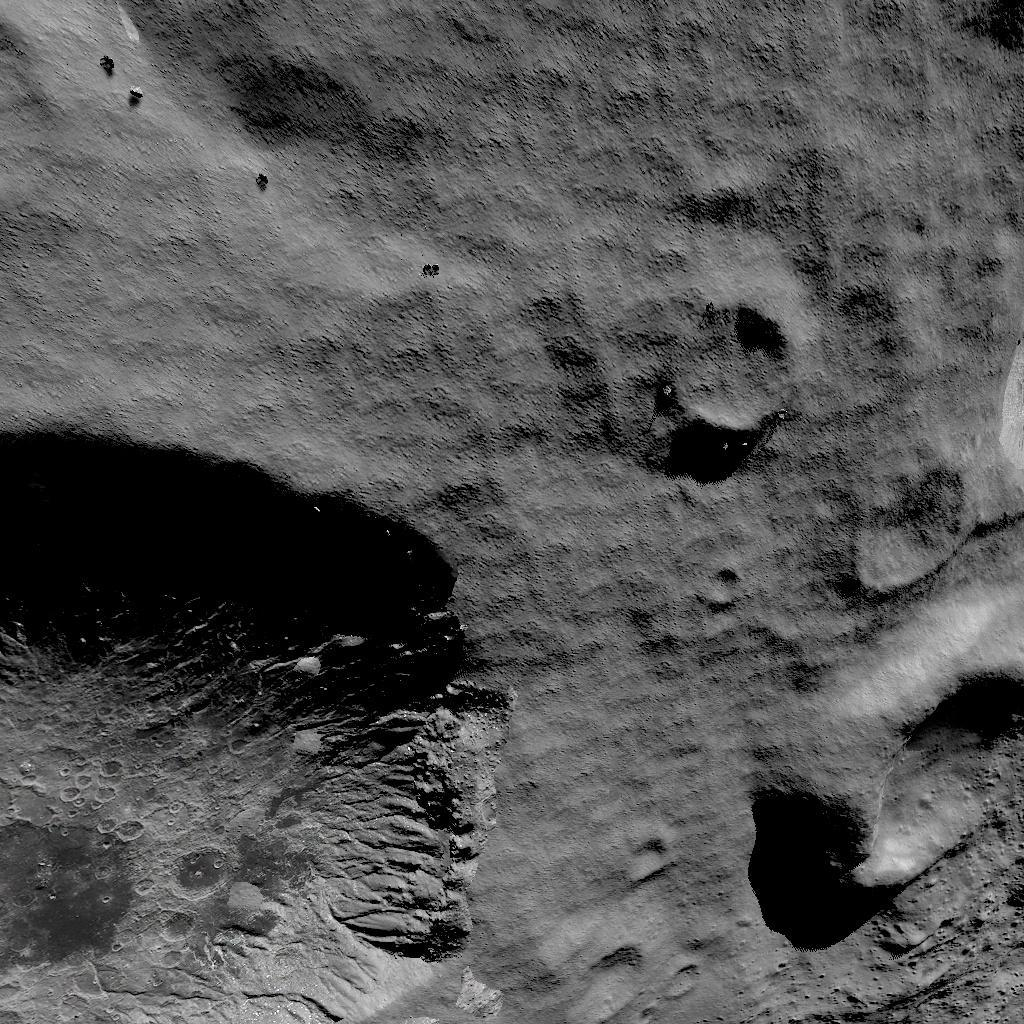Crater: (0, 386, 503, 1024), (731, 604, 1024, 926), (635, 270, 796, 434), (835, 432, 975, 577)
Plan surface: (449, 0, 1022, 255), (0, 187, 408, 377)
